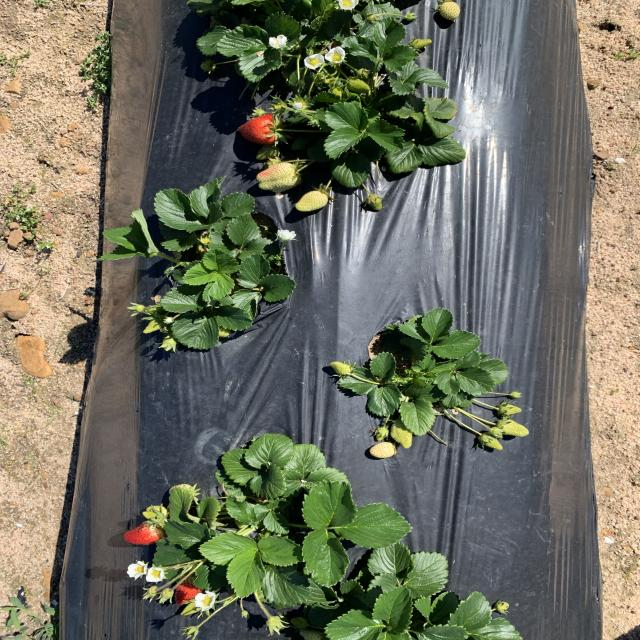unripe: (171, 566, 212, 608), (236, 115, 288, 144), (120, 522, 173, 546)
